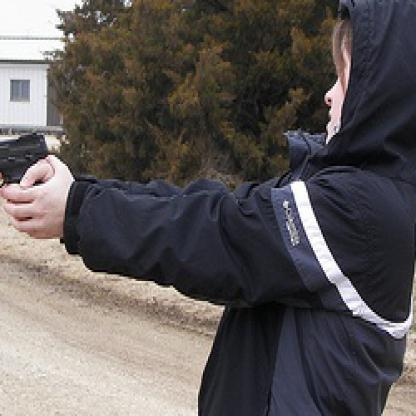gun: (0, 128, 55, 206)
